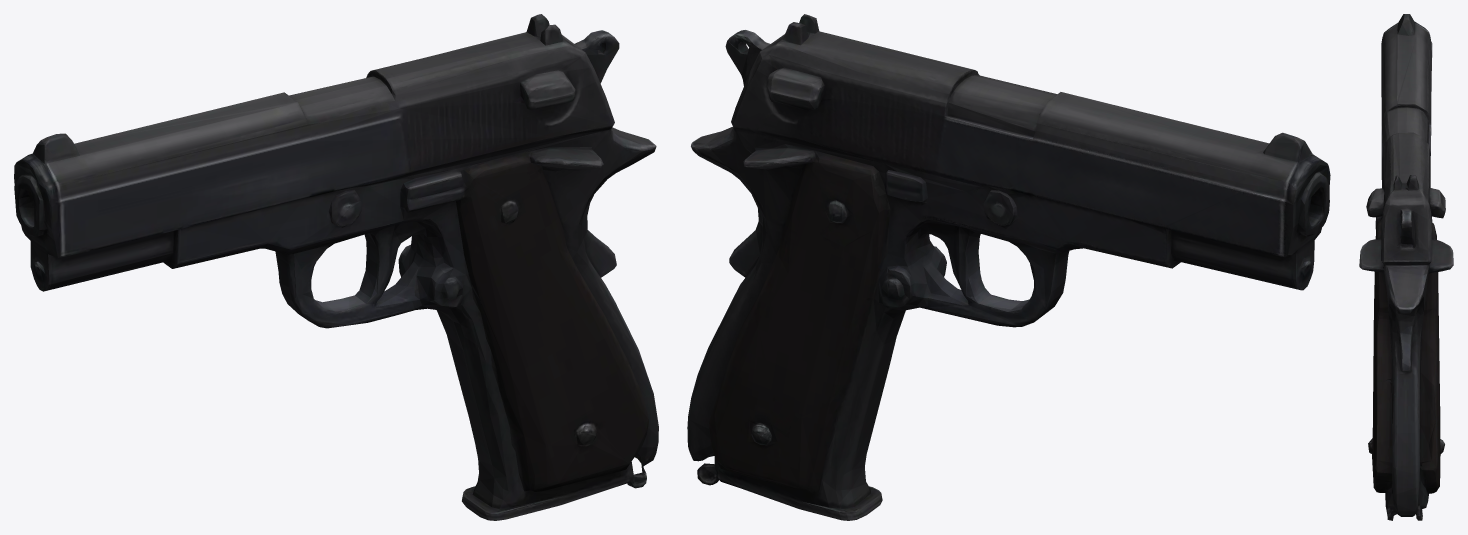
The model's file is black_makarov.glb.
3 renders of one model, left to right at view 1: azimuth 30°, elevation 25°; view 2: azimuth 150°, elevation 25°; view 3: azimuth 270°, elevation 25°, orthographic. The views are drawn at different scales.
Visible parts, largest first — view 1: geometry_0; view 2: geometry_0; view 3: geometry_0.
Part boxes in pixels (<box>): geometry_0: <box>14,14,658,520</box>; geometry_0: <box>687,14,1330,520</box>; geometry_0: <box>1359,14,1453,520</box>.
Bounding box in the file's own units: 0.9998 × 0.7368 × 0.197.
1 material, 1 textured.
